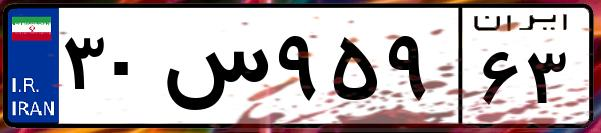0: (110, 28, 158, 98)
3: (57, 26, 110, 100), (525, 38, 570, 115)
5: (330, 28, 385, 110)
6: (475, 38, 525, 113)
9: (270, 28, 330, 110), (385, 28, 445, 110)
س: (158, 20, 270, 120)
